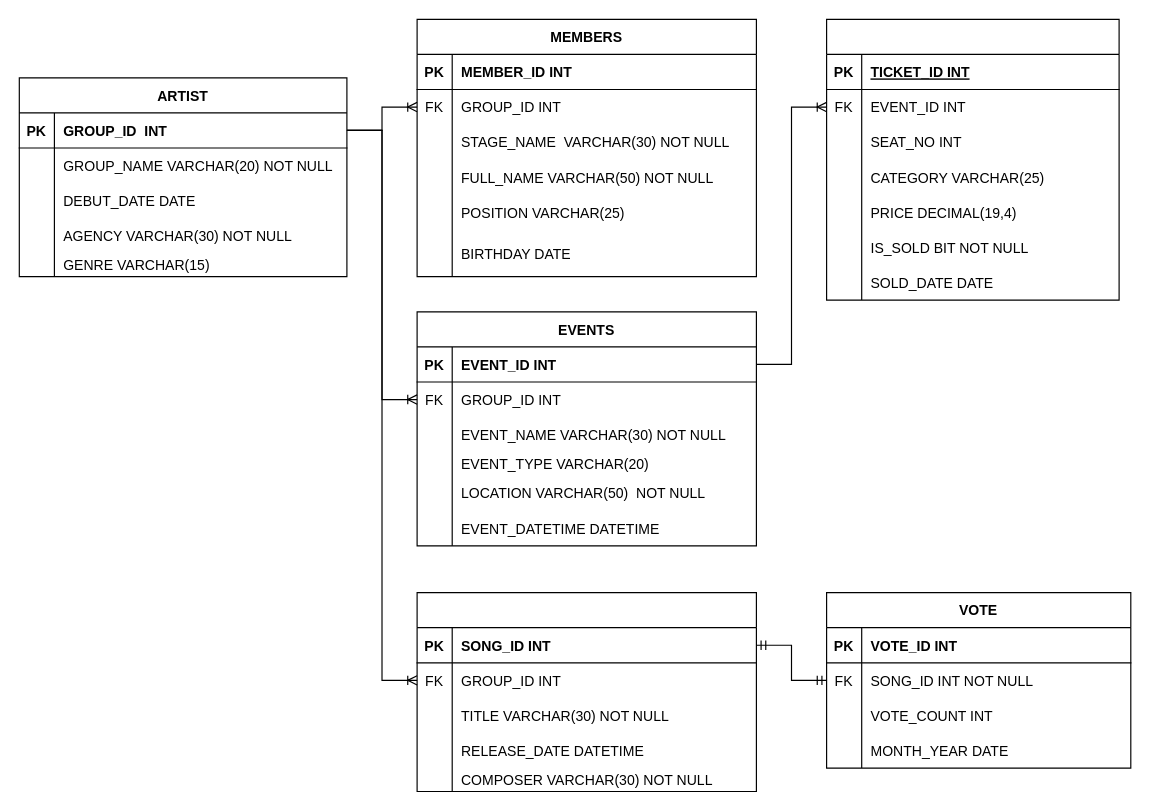
Image size: 1150x811. Some labels were removed from this diagram. The box of each missing label's shape, as (x1, y1, x2, y2) in pixels:
SONGS: (416, 591, 756, 792)
TICKETS: (825, 18, 1119, 300)
